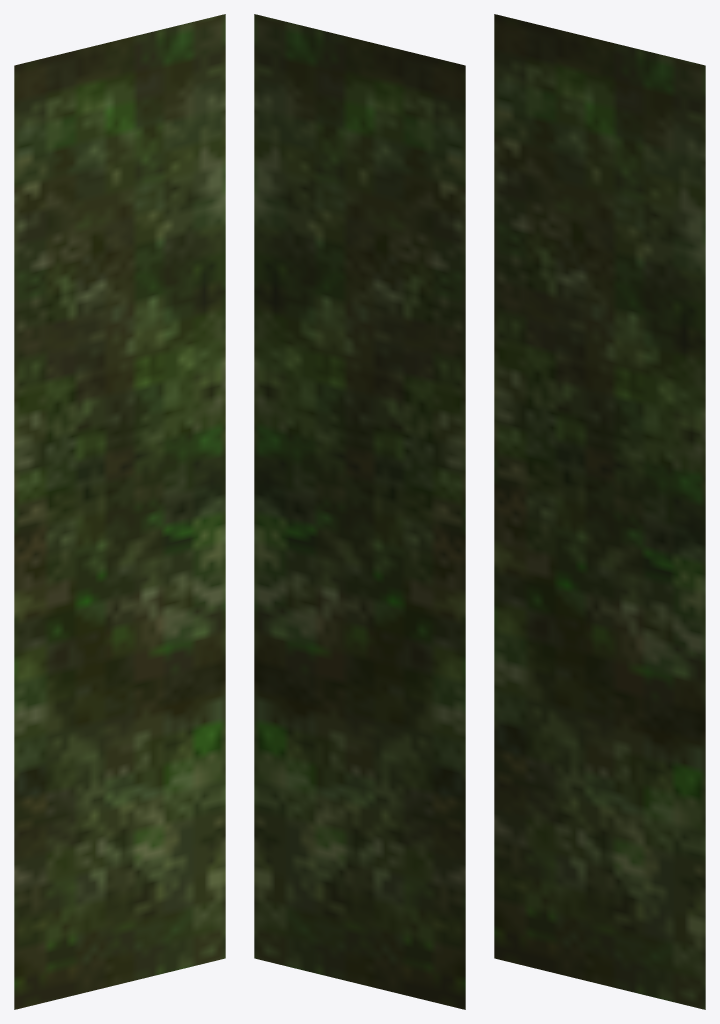
The model's file is OVERHILL_A_01_OBJECT134.fbx.
3 renders of one model, left to right at view 1: azimuth 30°, elevation 25°; view 2: azimuth 150°, elevation 25°; view 3: azimuth 330°, elevation 25°, orthographic.
Parts seen in each view (by area): view 1: OVERHILL_A_01_OBJECT134; view 2: OVERHILL_A_01_OBJECT134; view 3: OVERHILL_A_01_OBJECT134.
Part boxes in pixels (x1=…): OVERHILL_A_01_OBJECT134: x1=14, y1=14, x2=225, y2=1009; OVERHILL_A_01_OBJECT134: x1=254, y1=14, x2=465, y2=1009; OVERHILL_A_01_OBJECT134: x1=494, y1=14, x2=705, y2=1009.
Size of the model in its own units: 7377 by 31529 by 0.00514.
1 material, 1 textured.
